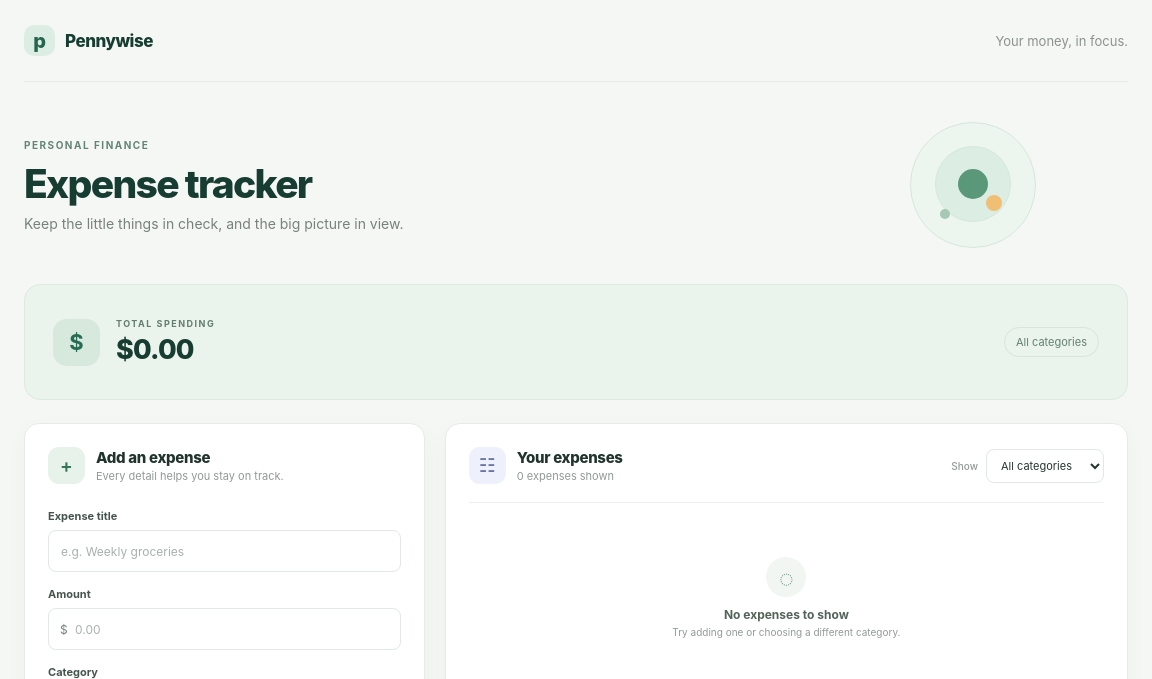
Test: Expense tracker › deletes an expense and updates the total and count
The image size is (1152, 679).
In the field with test id "title": (225, 551) [48,530,401,572], type "Coffee"
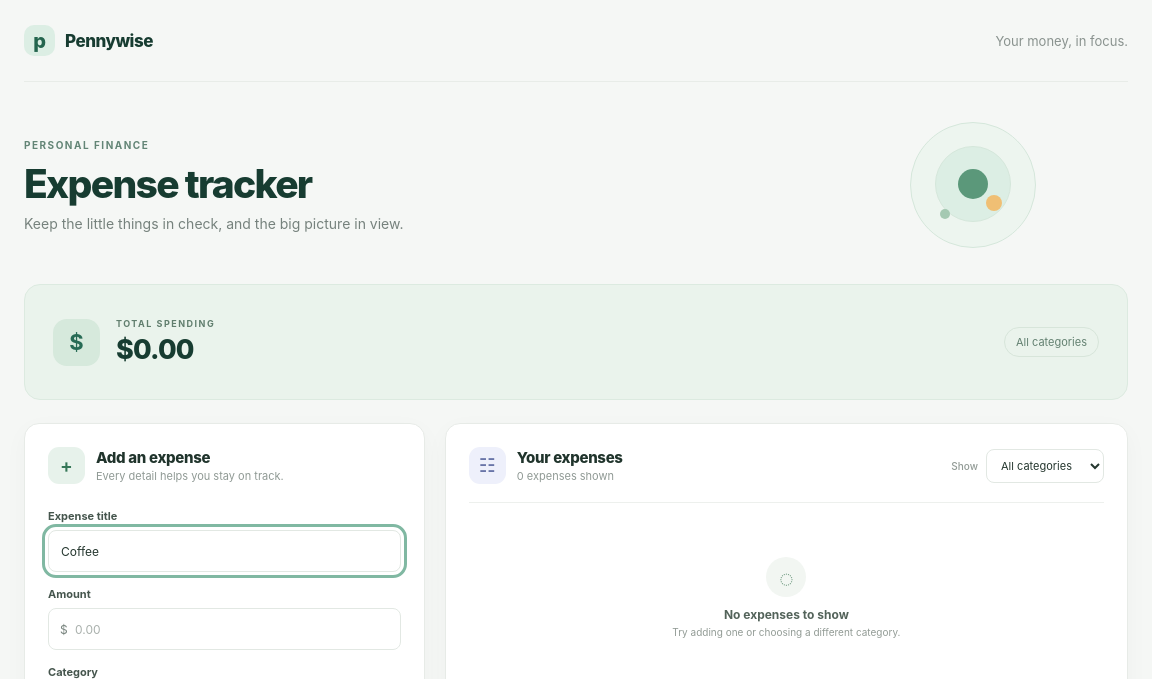
In the number field with test id "amount": (225, 629) [48,608,401,650], type "5"
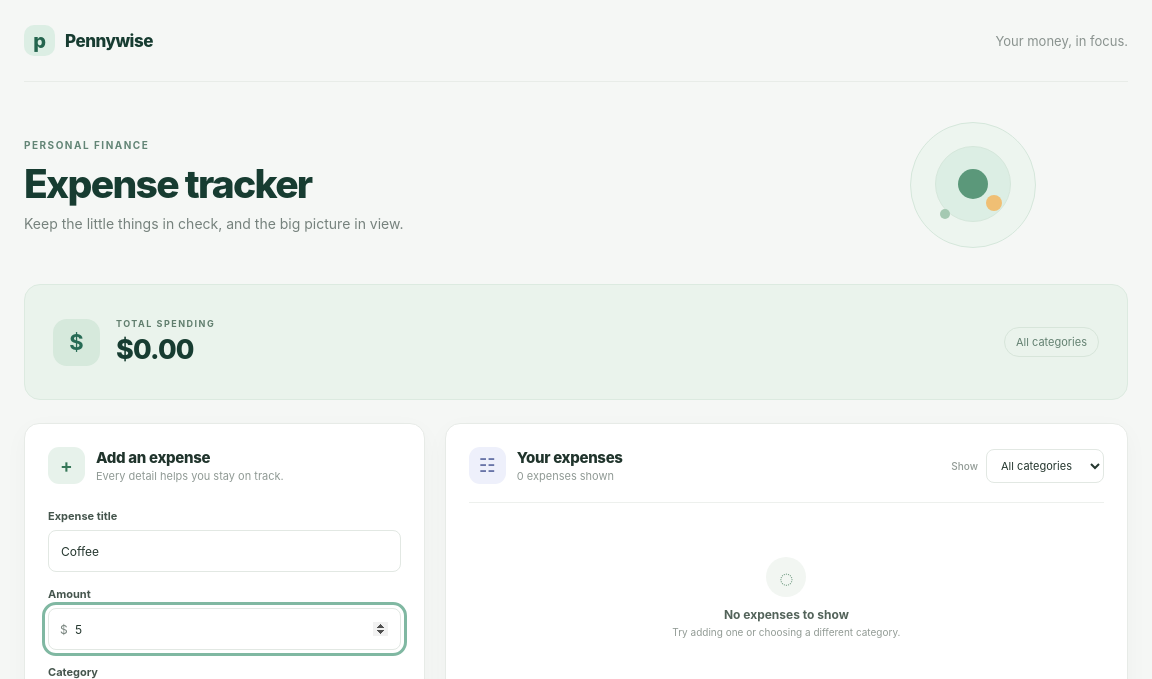
Scroll
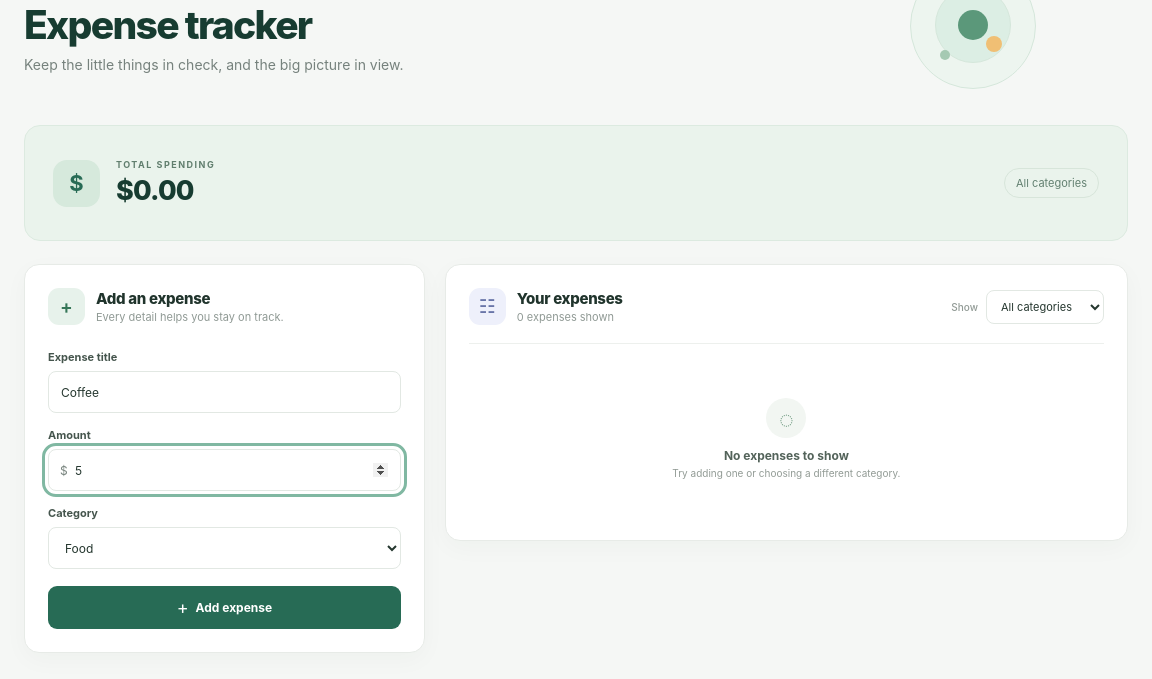
Select "Food" in the dropdown with test id "category": (225, 548) [48,527,401,569]
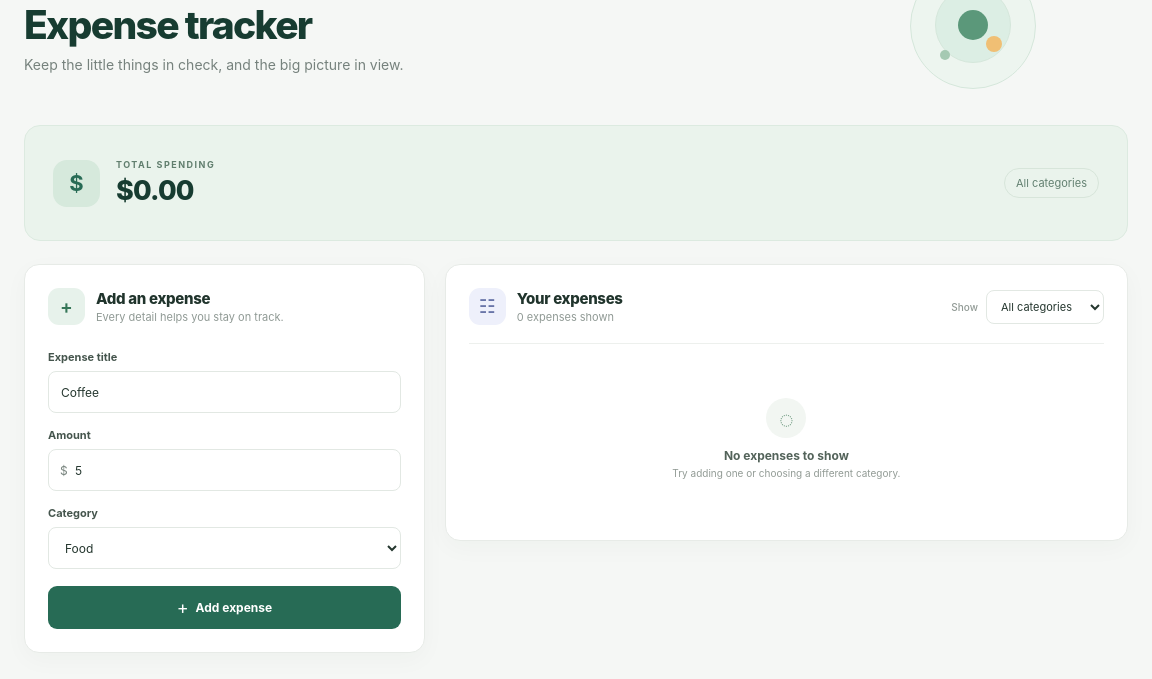
Click the button with test id "add-expense": (225, 608) [48,586,401,629]
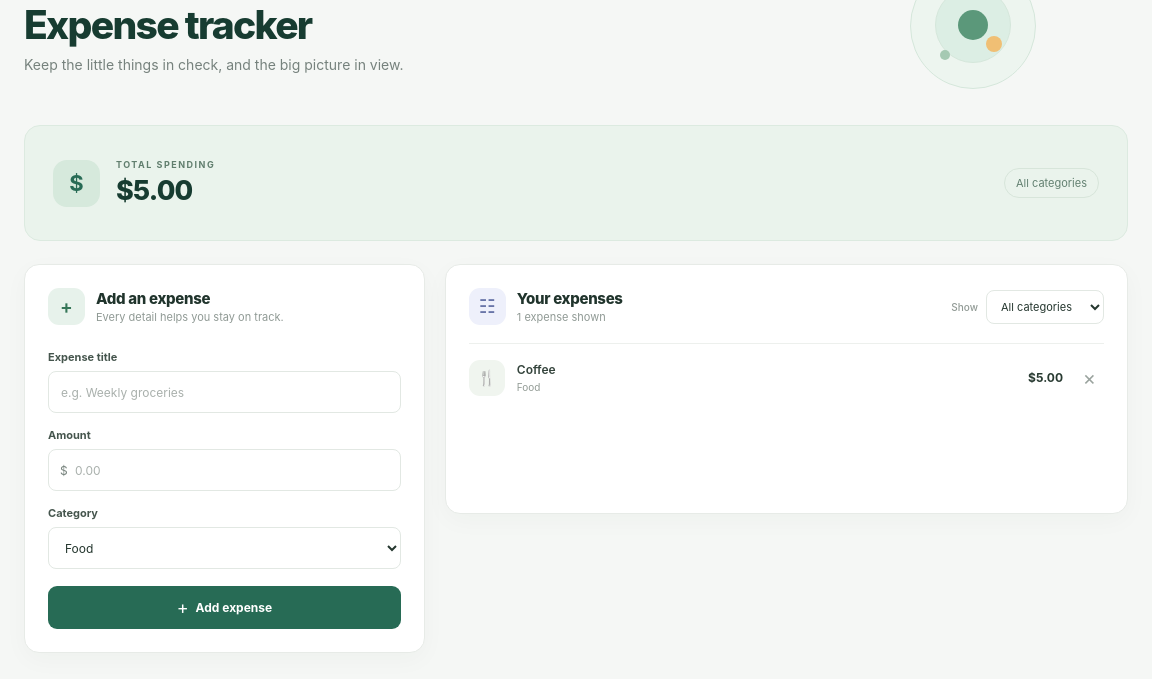
Click the button with test id "delete-expense": (1090, 378) [1075,363,1104,392]
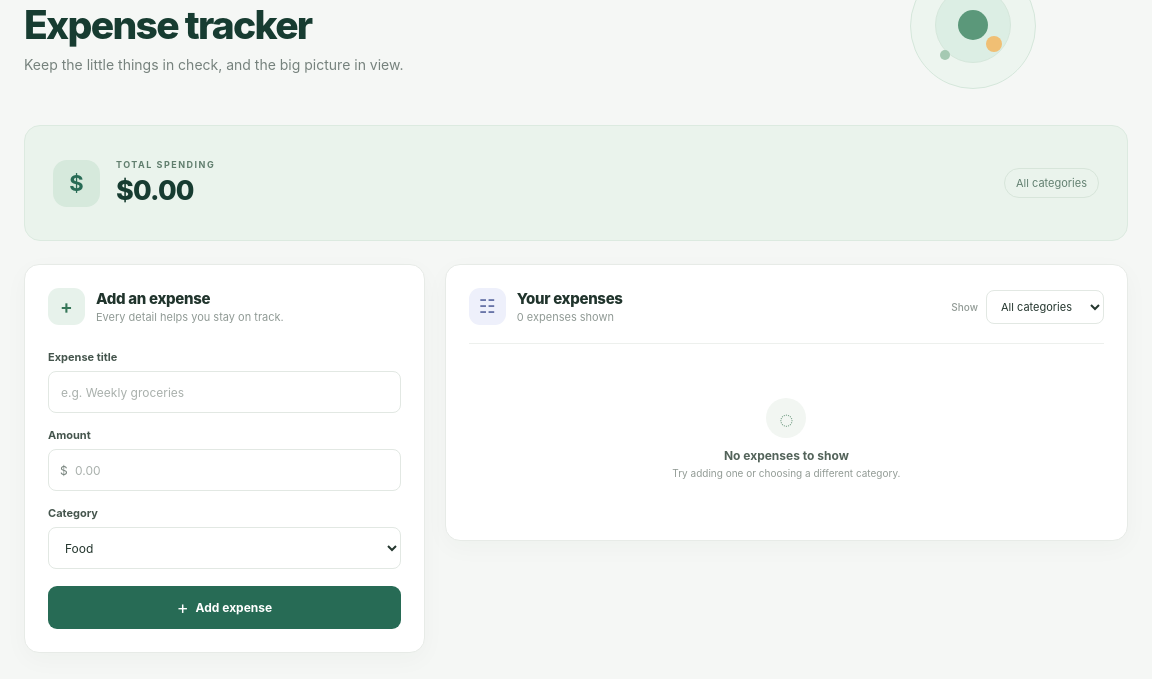
Result: the list item with test id "expense-item" is gone
Result: the text with test id "count" reads "0" at [517,310,524,324]
Result: the text with test id "total" shows "0.00" at [116,174,194,207]
